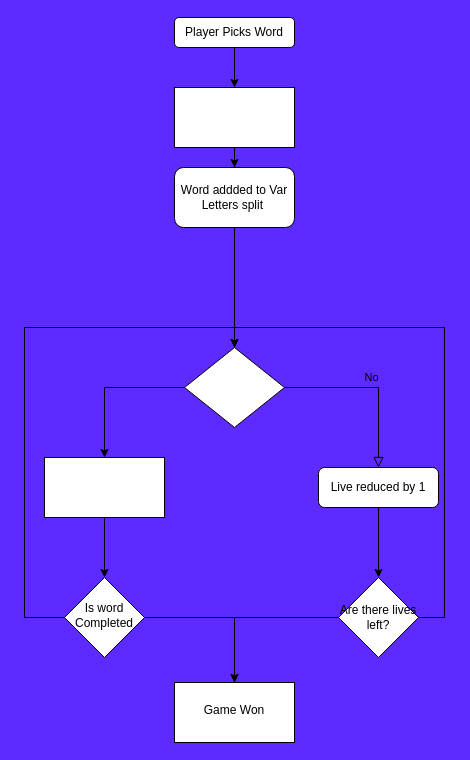
Some shapes in this 470 by 760 pixel diagram are drawn without their labels. Here are the shapes that lost their labels. From the top down, the box of each, then its label:
(174, 86, 294, 148): Live Var set to len of work
(184, 346, 284, 428): Player Guess Letter
(44, 456, 164, 518): Lett filled out on board
